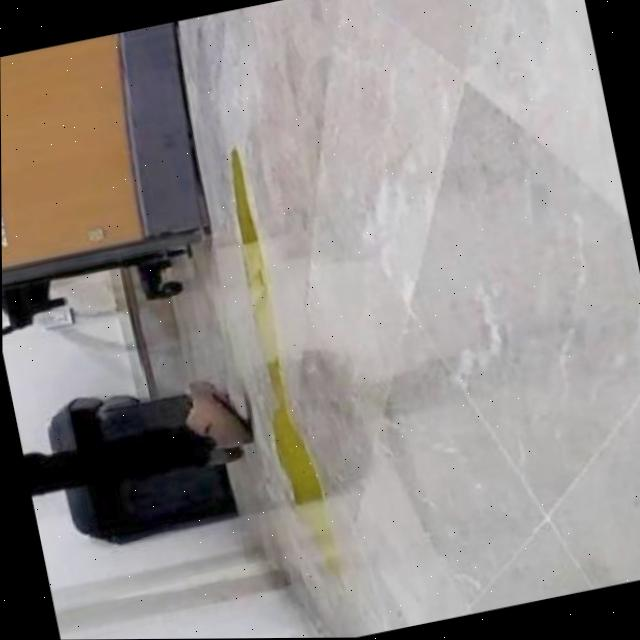spillage: (231, 146, 339, 574)
